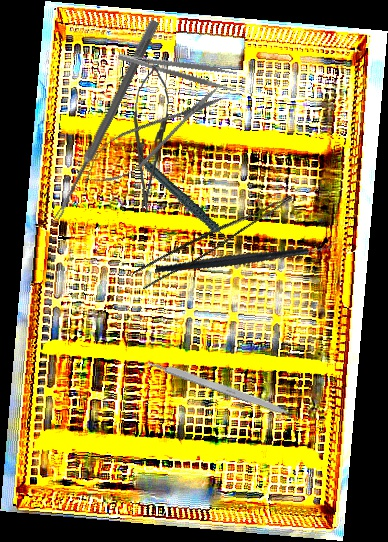Chopper: (154, 197, 339, 313)
Dressing Forceps: (117, 40, 238, 94)
Handpiece: (138, 142, 233, 263)
Micro Scissor: (74, 74, 233, 198)
Needle Holder: (125, 64, 173, 214)
Scalpel Handle: (146, 356, 293, 418)
Surgical Spoon: (52, 18, 160, 223)
Tissue Forceps: (132, 177, 294, 295)
